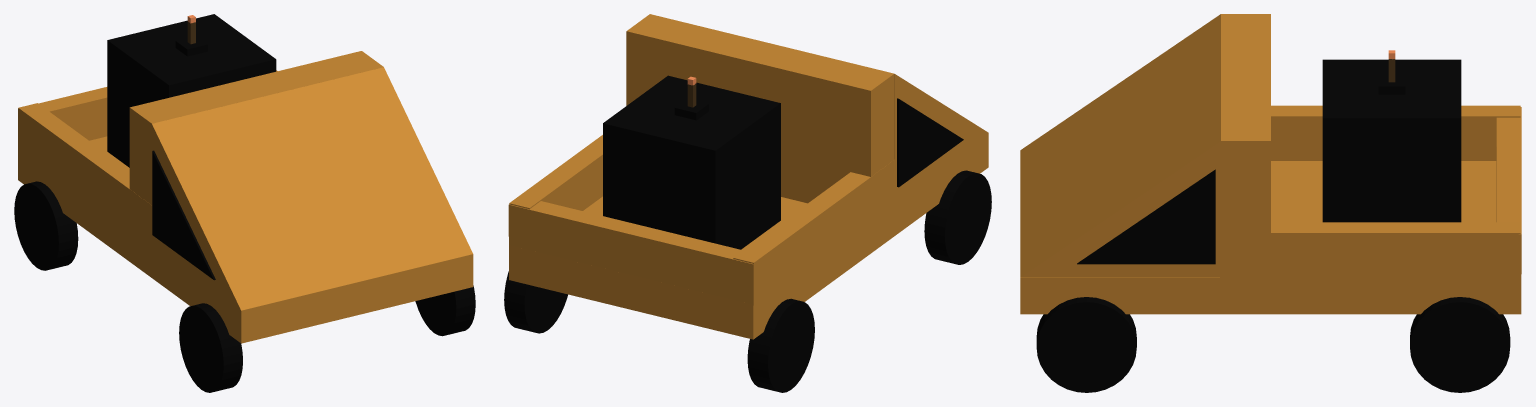
The picture shows the model from 3 angles, left to right: view 1: azimuth 30°, elevation 25°; view 2: azimuth 150°, elevation 25°; view 3: azimuth 270°, elevation 25°; orthographic projection. The views are drawn at different scales.
Visible parts, largest first — view 1: Cube.002, Cube.001, Cube.005, Cube.012, Cube.003, Cylinder.002, Cylinder.004, Cube.008, Cube.009, Cylinder, Cube.006; view 2: Cube.005, Cube.003, Cube.001, Cube.009, Cube.012, Cylinder.002, Cylinder.004, Cube.011, Cube.002, Cube.008, Cylinder.001, Cube.006; view 3: Cube.002, Cube.001, Cube.005, Cube.003, Cube.011, Cylinder, Cylinder.001, Cube.004, Cube.012, Cube.009, Cube.006.
Boxes of the visible parts, x1=… form: Cube.002: x1=152, y1=67, x2=472, y2=310; Cube.001: x1=18, y1=136, x2=473, y2=343; Cube.005: x1=107, y1=14, x2=276, y2=167; Cube.012: x1=18, y1=103, x2=152, y2=245; Cube.003: x1=129, y1=51, x2=383, y2=205; Cylinder.002: x1=179, y1=303, x2=242, y2=392; Cylinder.004: x1=14, y1=181, x2=78, y2=270; Cube.008: x1=152, y1=150, x2=215, y2=280; Cube.009: x1=18, y1=87, x2=107, y2=152; Cylinder: x1=415, y1=285, x2=475, y2=336; Cube.006: x1=175, y1=36, x2=207, y2=56; Cube.005: x1=603, y1=75, x2=780, y2=249; Cube.003: x1=626, y1=14, x2=894, y2=203; Cube.001: x1=509, y1=133, x2=988, y2=339; Cube.009: x1=508, y1=201, x2=753, y2=304; Cube.012: x1=733, y1=160, x2=894, y2=305; Cylinder.002: x1=924, y1=170, x2=991, y2=264; Cylinder.004: x1=747, y1=298, x2=814, y2=392; Cube.011: x1=509, y1=135, x2=602, y2=210; Cube.002: x1=894, y1=74, x2=988, y2=200; Cube.008: x1=897, y1=98, x2=963, y2=187; Cylinder.001: x1=504, y1=271, x2=567, y2=333; Cube.006: x1=674, y1=98, x2=708, y2=120; Cube.002: x1=1020, y1=14, x2=1220, y2=277; Cube.001: x1=1020, y1=161, x2=1521, y2=314; Cube.005: x1=1322, y1=59, x2=1461, y2=222; Cube.003: x1=1221, y1=14, x2=1270, y2=277; Cube.011: x1=1220, y1=222, x2=1520, y2=277; Cylinder: x1=1036, y1=297, x2=1136, y2=392; Cylinder.001: x1=1410, y1=297, x2=1510, y2=392; Cube.004: x1=1077, y1=169, x2=1215, y2=264; Cube.012: x1=1271, y1=105, x2=1520, y2=160; Cube.009: x1=1496, y1=107, x2=1521, y2=279; Cube.006: x1=1378, y1=75, x2=1405, y2=94.
Bounding box in the file's own units: 1.3 × 1.2 × 2.
